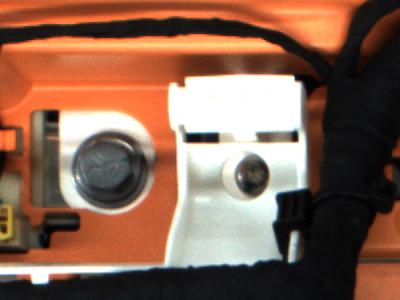nut_b: (72, 129, 151, 207)
